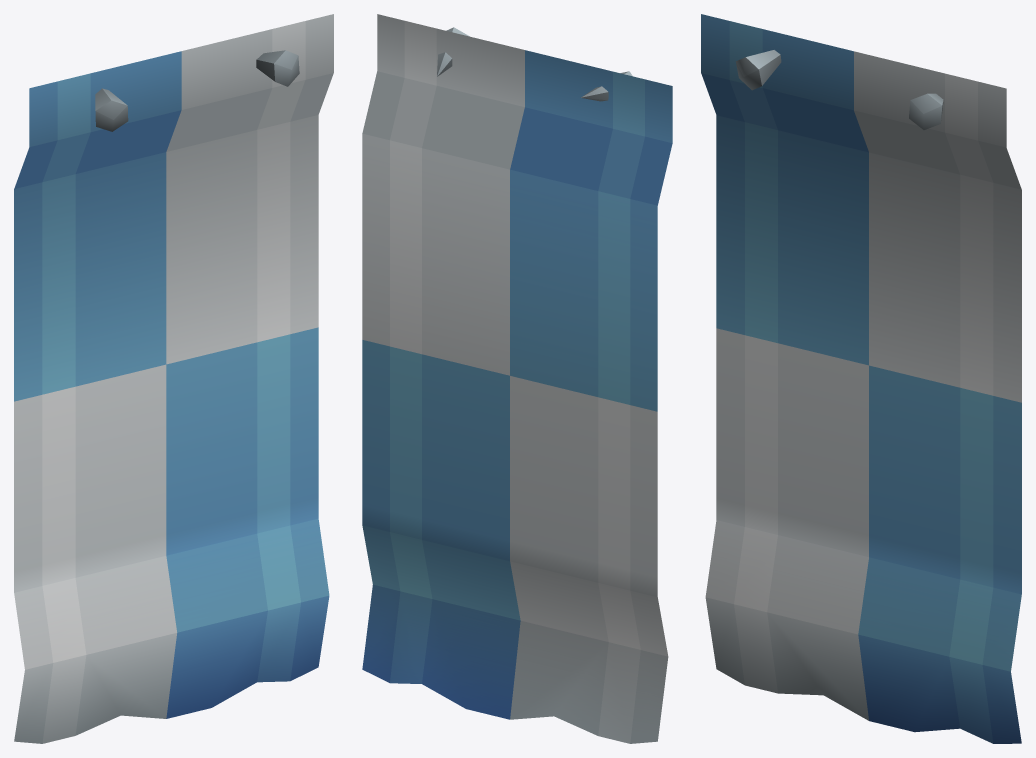
File: banner_patternA_blue.glb
3 renders of one model, left to right at view 1: azimuth 30°, elevation 25°; view 2: azimuth 150°, elevation 25°; view 3: azimuth 330°, elevation 25°, orthographic. The views are drawn at different scales.
Visible parts, largest first — view 1: banner_patternA_blue; view 2: banner_patternA_blue; view 3: banner_patternA_blue.
Part boxes in pixels (x1=…): banner_patternA_blue: x1=14, y1=14, x2=333, y2=743; banner_patternA_blue: x1=362, y1=14, x2=672, y2=743; banner_patternA_blue: x1=701, y1=14, x2=1021, y2=743.
Size of the model in its own units: 1.5 by 3.2 by 0.3117.
Materials: 1 (1 with a texture image).
